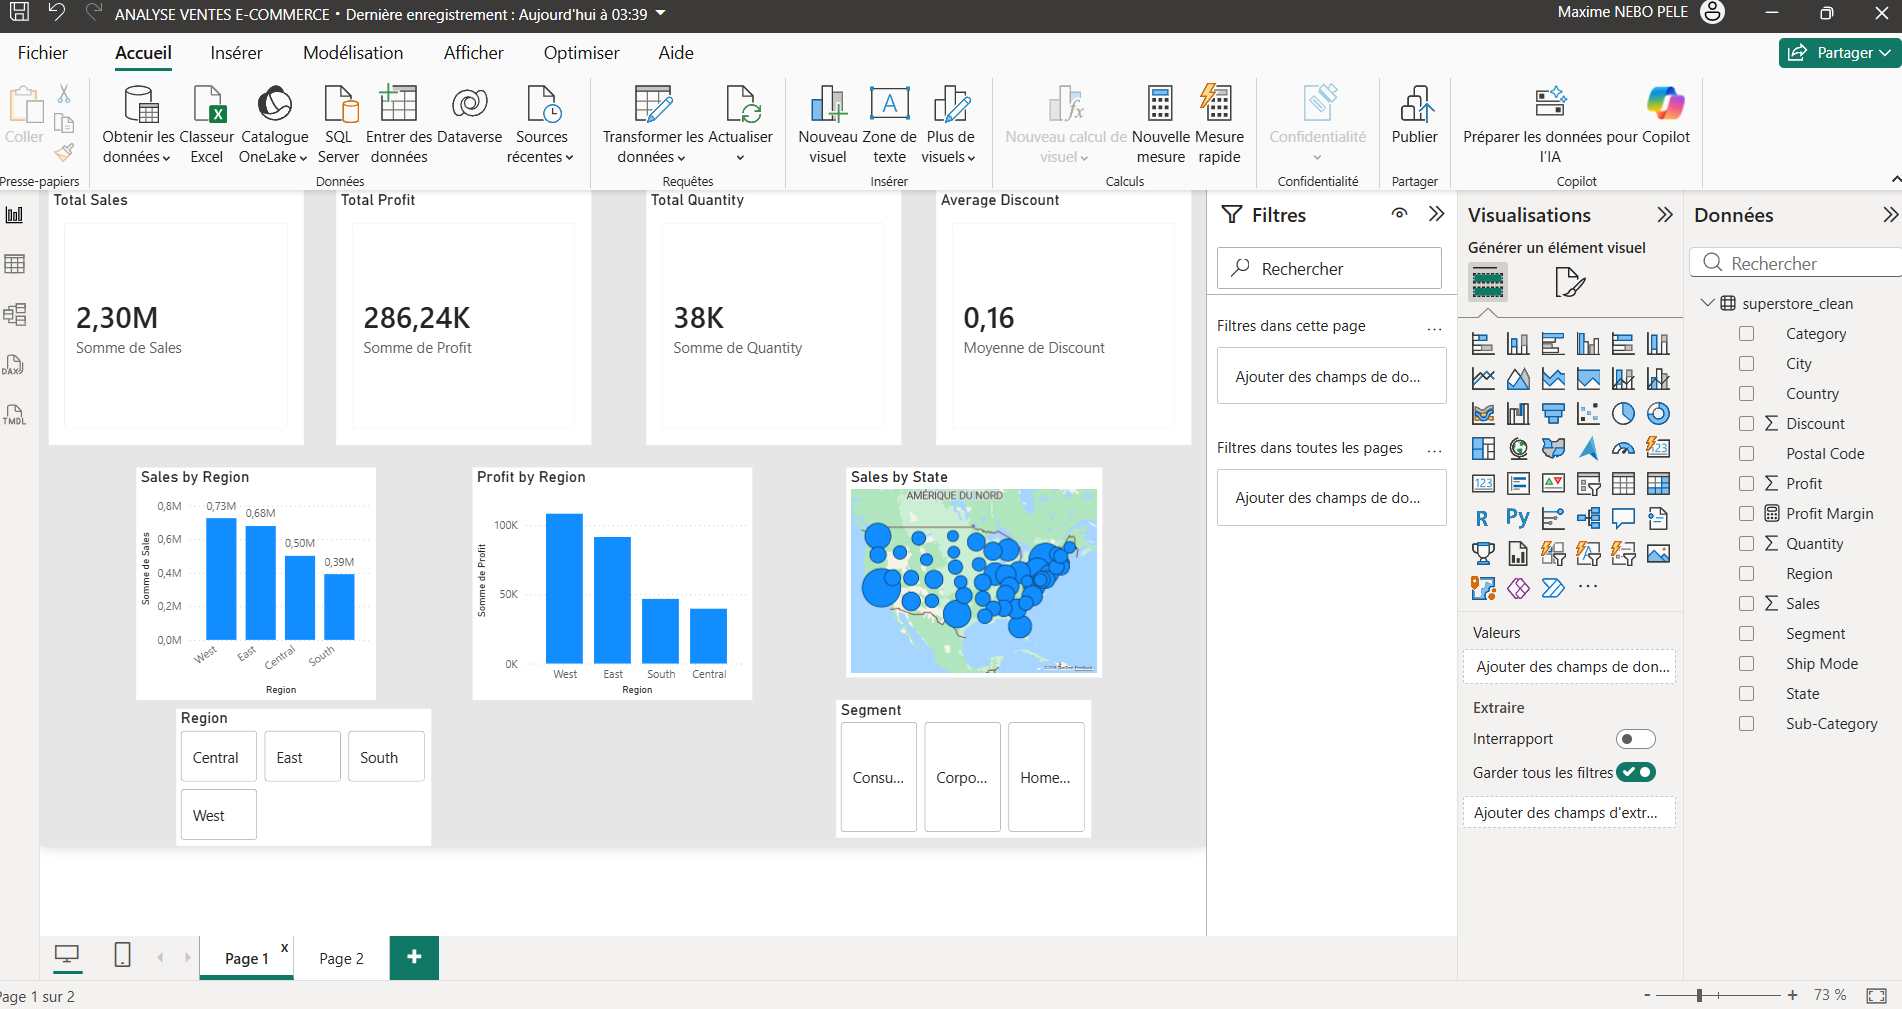

The page's visual inventory and layout, read from the dashboard file:
{"tool":"powerbi","page":{"name":"Page 1","canvas":[1280,720],"ordinal":0},"visuals":[{"type":"cardVisual","title":"Total Sales","fields":{"Data":["Sum(superstore_clean.Sales)"]},"box":[10,0,280,280],"z":0},{"type":"cardVisual","title":"Total Profit","fields":{"Data":["Sum(superstore_clean.Profit)"]},"box":[325.2,0,279.9,279.9],"z":1000},{"type":"cardVisual","title":"Total Quantity","fields":{"Data":["Sum(superstore_clean.Quantity)"]},"box":[665.5,0,279.9,279.9],"z":2000},{"type":"cardVisual","title":"Average Discount","fields":{"Data":["Avg(superstore_clean.Discount)"]},"box":[983.9,0,279.9,279.9],"z":3000},{"type":"clusteredColumnChart","title":" Sales by Region","fields":{"Category":["superstore_clean.Region"],"Y":["Sum(superstore_clean.Sales)"]},"box":[105.7,304.6,263.5,255.2],"z":4000},{"type":"clusteredColumnChart","title":"Profit by Region","fields":{"Category":["superstore_clean.Region"],"Y":["Sum(superstore_clean.Profit)"]},"box":[474.8,304.6,307.4,255.2],"z":5000},{"type":"azureMap","title":"Sales by State","fields":{"Category":["superstore_clean.State"],"Size":["Sum(superstore_clean.Sales)"]},"box":[885.1,304.6,279.9,230.5],"z":6000},{"type":"advancedSlicerVisual","fields":{"Values":["superstore_clean.Segment"]},"box":[874.1,559.9,279.9,150.9],"z":7000},{"type":"advancedSlicerVisual","fields":{"Values":["superstore_clean.Region"]},"box":[149.6,569.5,279.9,150.9],"z":8000}]}

Visuals, with their boxes on the page's 1280x720 design canvas (x1, y1, x2, y2). These are canvas units, not pixel positions in the 1902x1009 screenshot, which may show the page scaled, cropped or inside an application window:
"Total Sales" cardVisual: 10, 0, 290, 280
"Total Profit" cardVisual: 325, 0, 605, 280
"Total Quantity" cardVisual: 666, 0, 945, 280
"Average Discount" cardVisual: 984, 0, 1264, 280
" Sales by Region" clusteredColumnChart: 106, 305, 369, 560
"Profit by Region" clusteredColumnChart: 475, 305, 782, 560
"Sales by State" azureMap: 885, 305, 1165, 535
advancedSlicerVisual - superstore_clean.Segment: 874, 560, 1154, 711
advancedSlicerVisual - superstore_clean.Region: 150, 570, 430, 720
